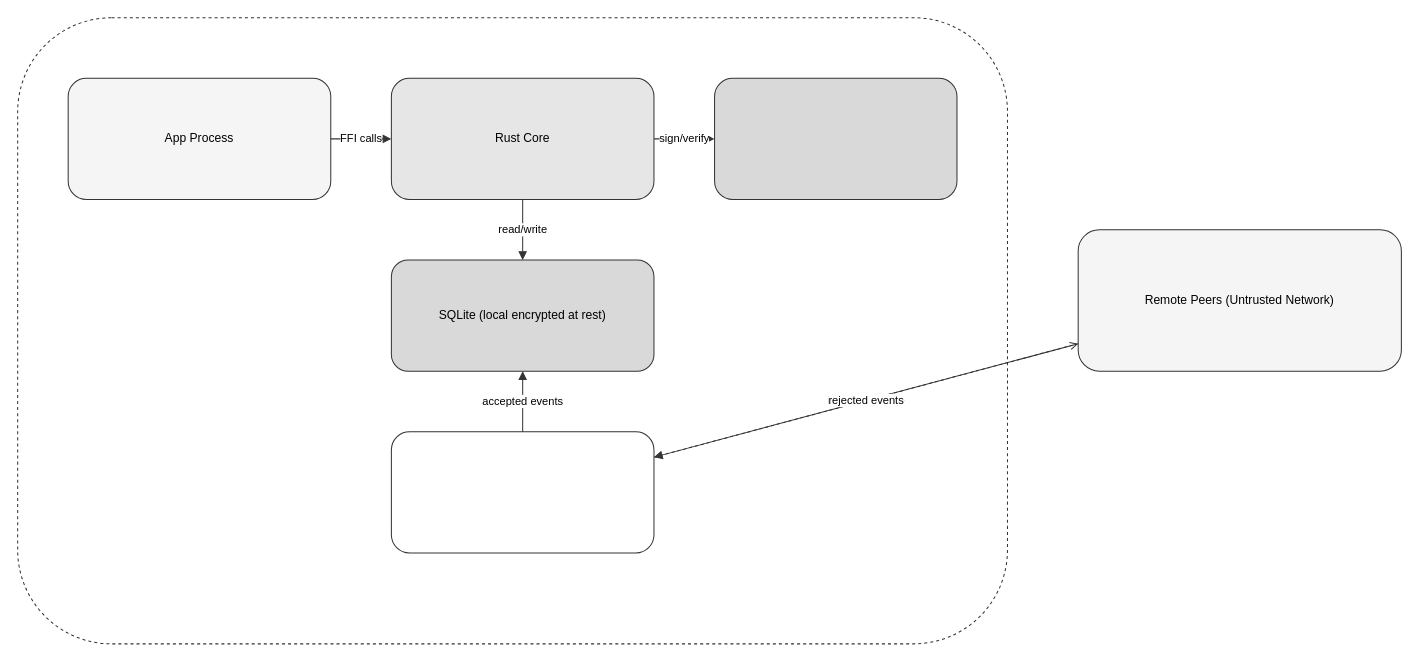
Some shapes in this 1419 by 662 pixel diagram are drawn without their labels. Each missing label, with the centre of its shape:
Secure Key Storage\n(Keychain/Keystore): the point at 835,138
Validation Gateway\n(schema + sig + policy checks): the point at 522,492
